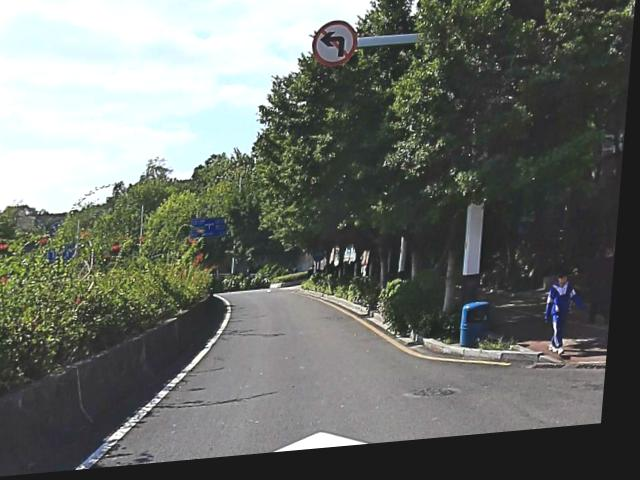not_turn_left: (314, 27, 357, 71)
